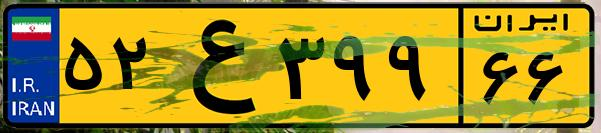2: (110, 28, 158, 98)
3: (270, 28, 330, 110)
5: (57, 26, 110, 100)
6: (475, 38, 525, 113), (525, 38, 570, 115)
9: (385, 28, 445, 110), (330, 28, 385, 110)
ع: (158, 12, 270, 120)
